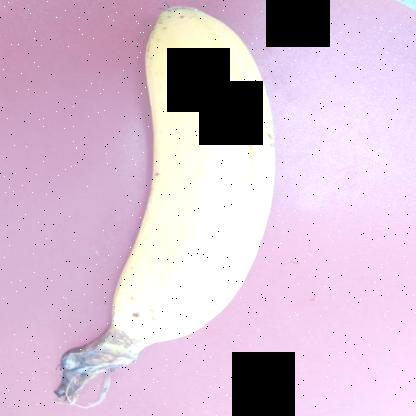freshripe: (94, 1, 276, 339)
